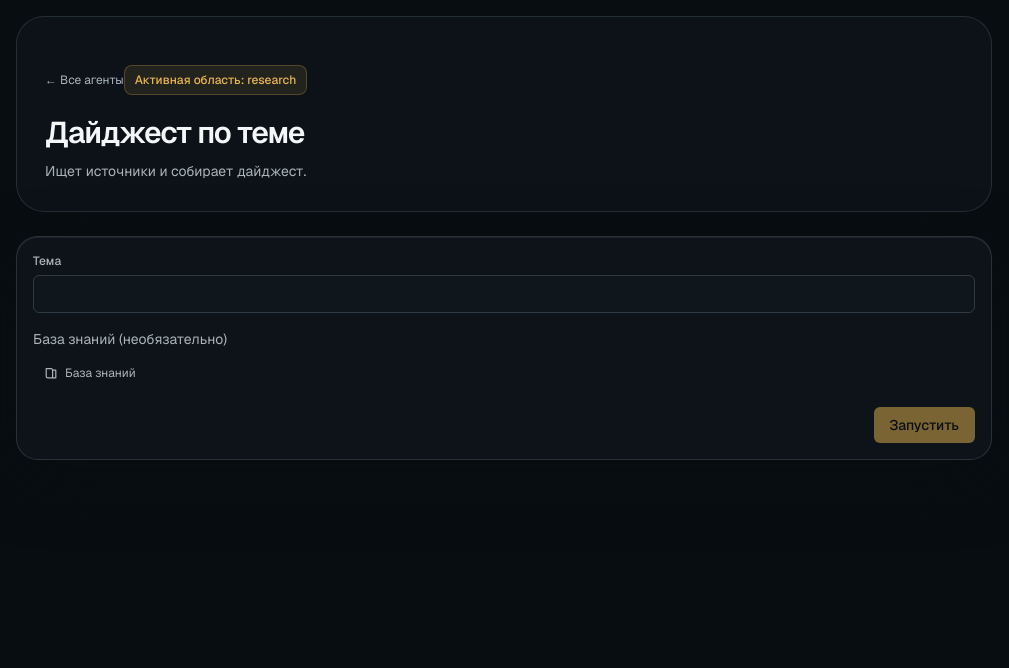
it: AgentRunPage › renders the research-digest result shape instead of the Threads plan
The width and height of the screenshot is (1009, 668).
Type "тренды контент-маркетинга" into the field labelled "Тема" at x=504, y=294, box 33,275 -> 975,313
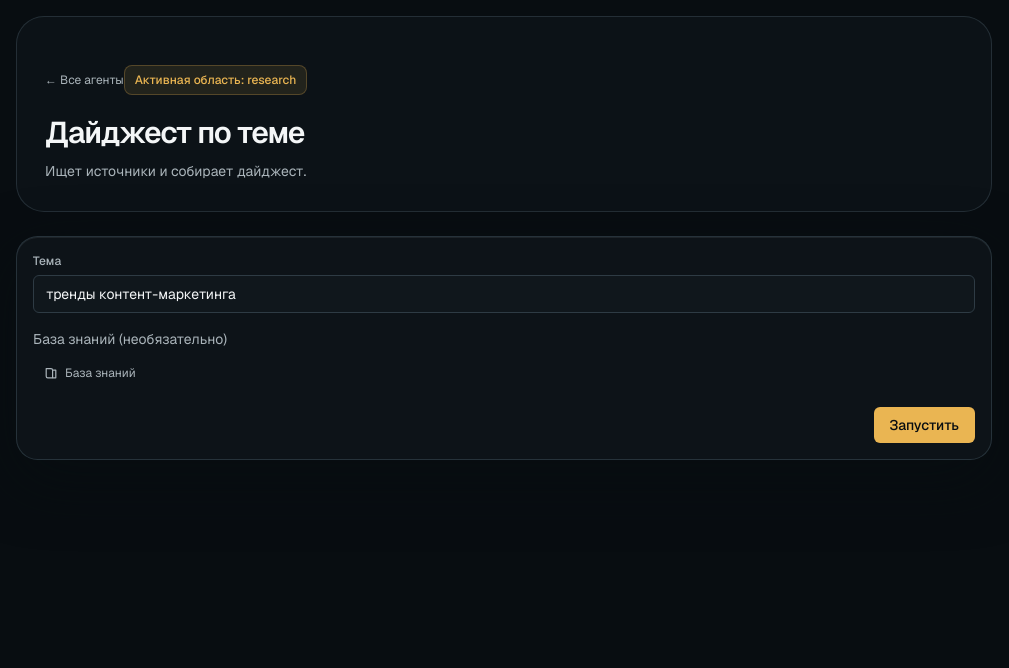
Click the button "Запустить" at x=924, y=425, box 874,407 -> 975,443
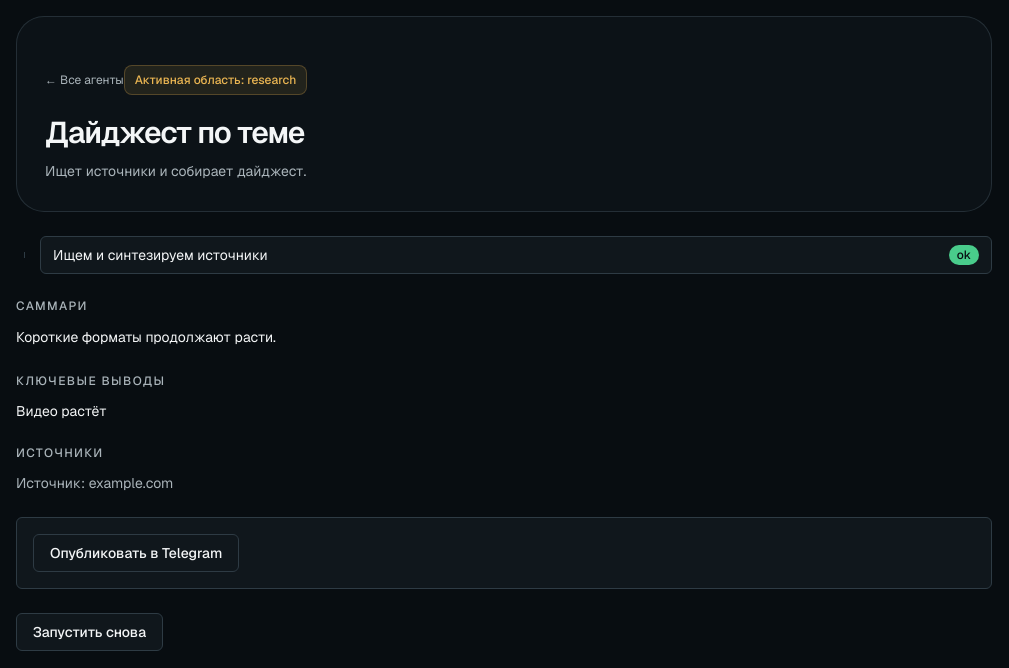
Check: the heading "Ключевые выводы" is shown, box 16,373 -> 165,389
Check: the heading "Источники" is shown, box 16,445 -> 104,461
